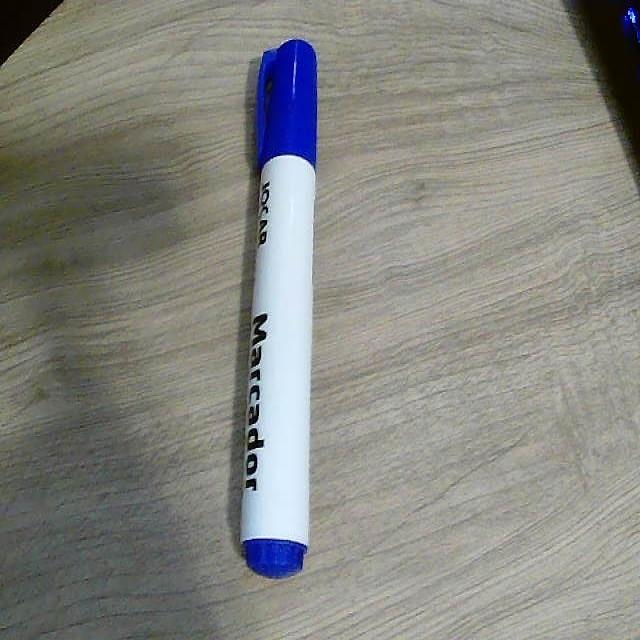caneta: (238, 22, 333, 604)
